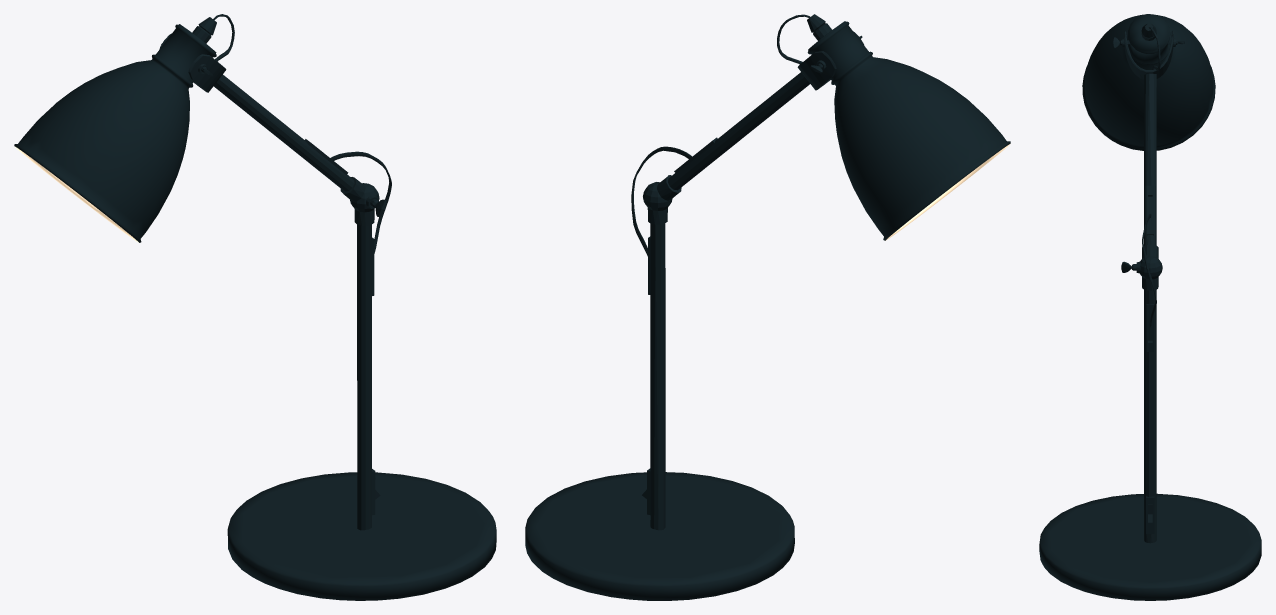
File: new_table_lamp.glb
3 renders of one model, left to right at view 1: azimuth 30°, elevation 25°; view 2: azimuth 150°, elevation 25°; view 3: azimuth 270°, elevation 25°, orthographic. The views are drawn at different scales.
Parts seen in each view (by area): view 1: Cylinder.002; view 2: Cylinder.002; view 3: Cylinder.002.
Boxes of the visible parts, box(x1,y1,x2,y2) form: Cylinder.002: box(14, 14, 496, 600); Cylinder.002: box(525, 14, 1010, 600); Cylinder.002: box(1039, 14, 1261, 600).
Bounding box in the file's own units: 51.95 × 62.13 × 26.69.
